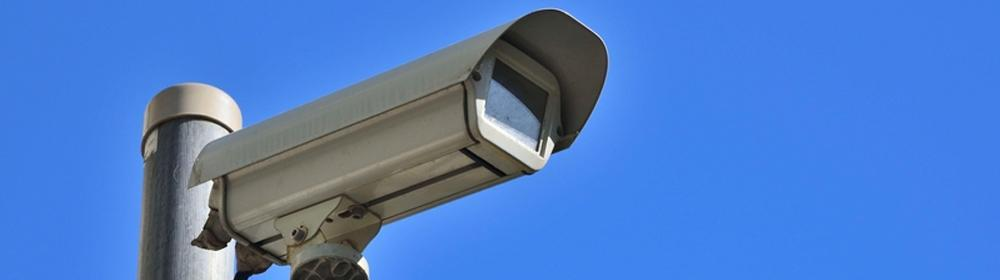tutu: (181, 3, 618, 280)
